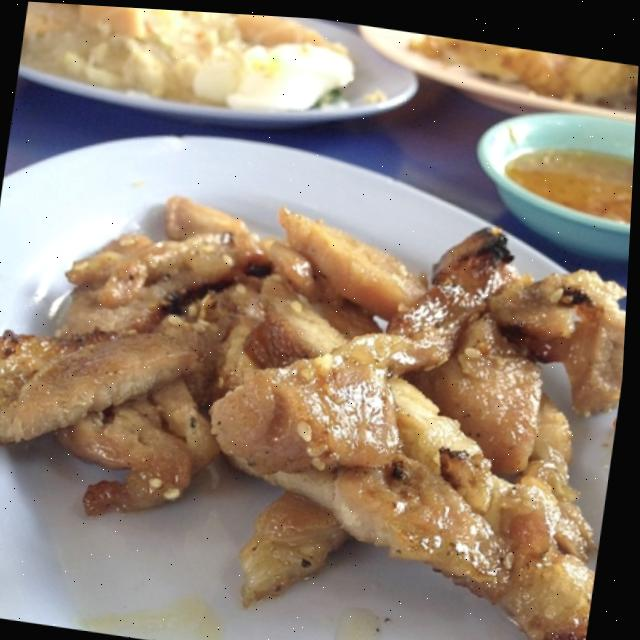猪肉菜式: (0, 133, 635, 640)
